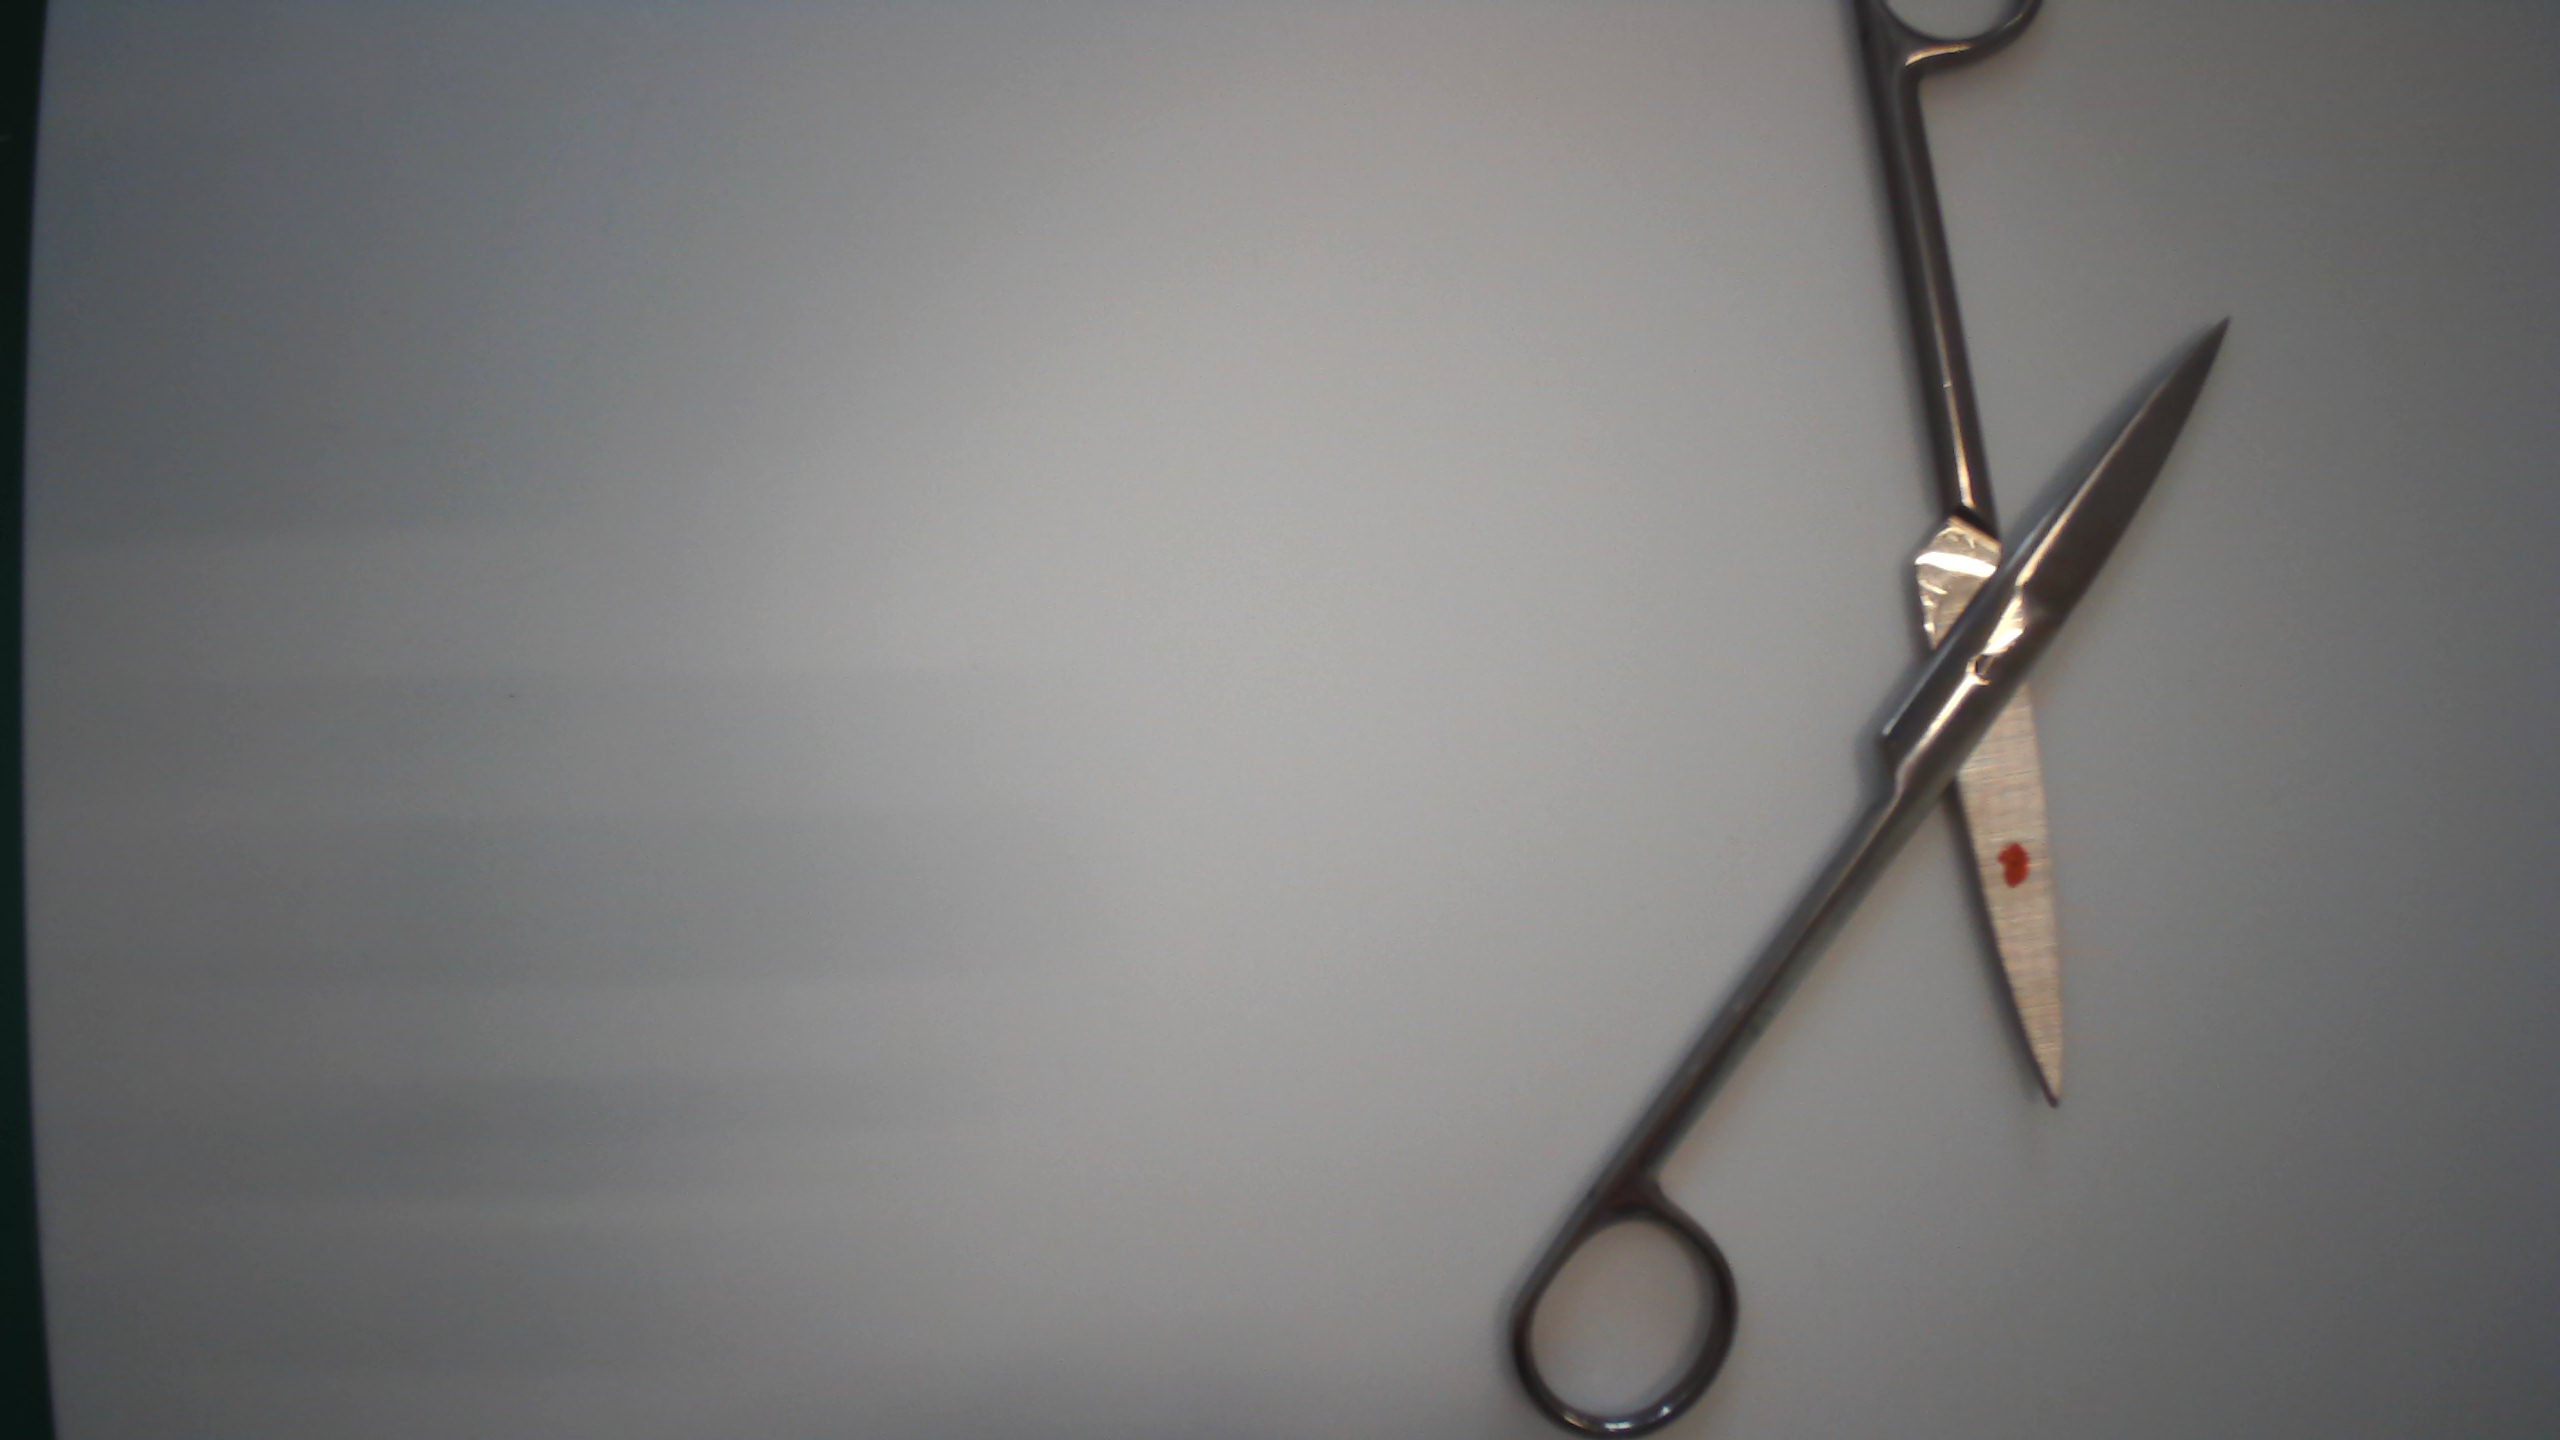Stain: (1992, 839, 2038, 898)
